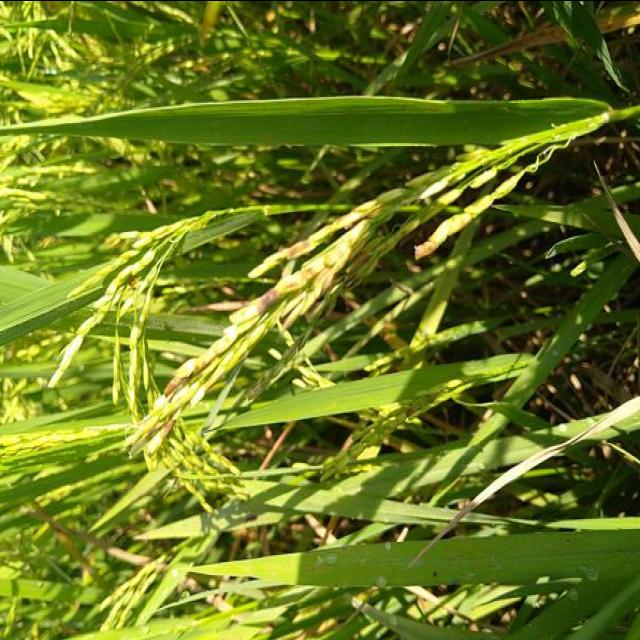Panicle Blight: (127, 218, 372, 456), (251, 211, 370, 274), (414, 195, 494, 260), (110, 261, 147, 298), (348, 254, 378, 288), (104, 232, 159, 248), (394, 403, 425, 418)
